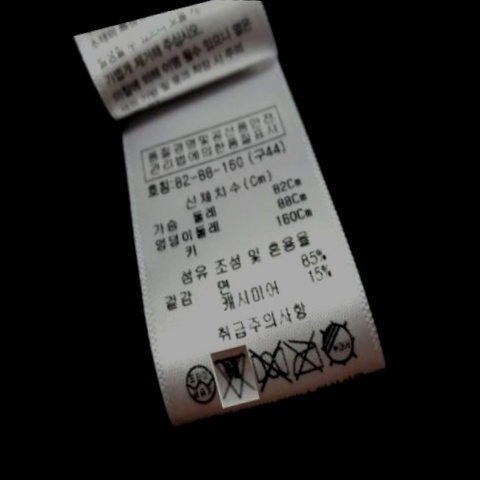DN_iron: (285, 331, 329, 383)
DN_wring: (250, 338, 294, 392)
dry_clean_petrol_only: (179, 353, 221, 410)
dry_flat_in_shade: (313, 312, 363, 374)
non_chlorine_bleach: (212, 346, 255, 403)
